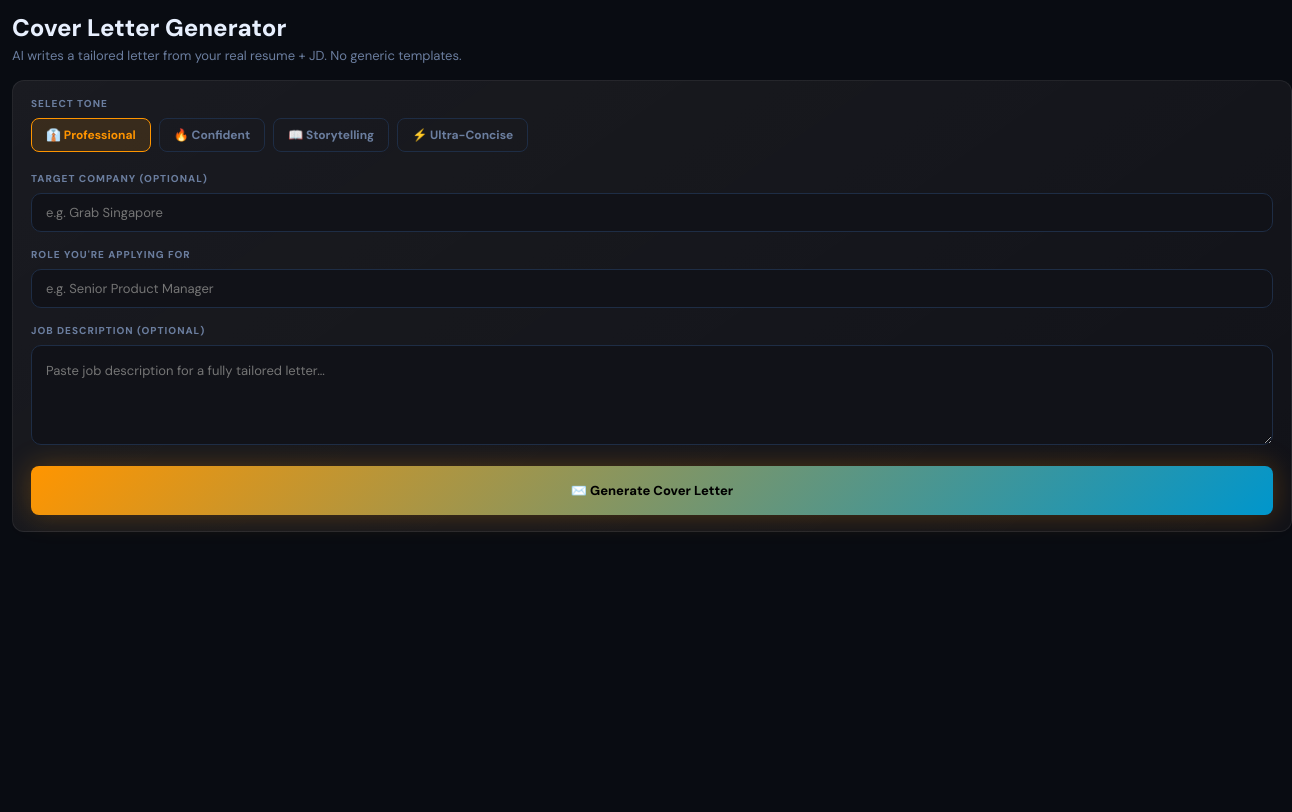
Test case: CoverLetterGen › shows an error and saves nothing when the reply is unusable
Type "PM" into the field named "Role".
click(652, 288); type("PM")  # box [31,269,1273,308]
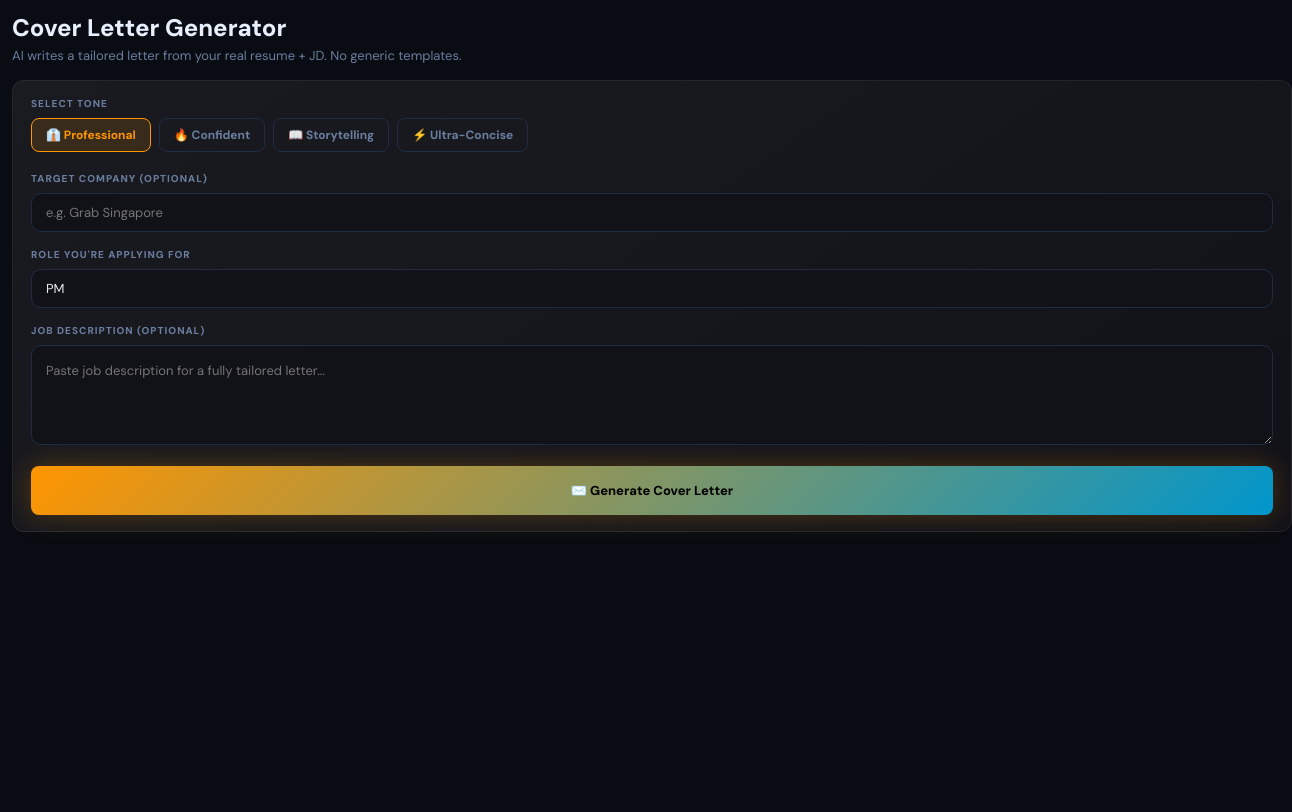
Click the button "✉️ Generate Cover Letter".
click(652, 490)  # box [31,466,1273,515]
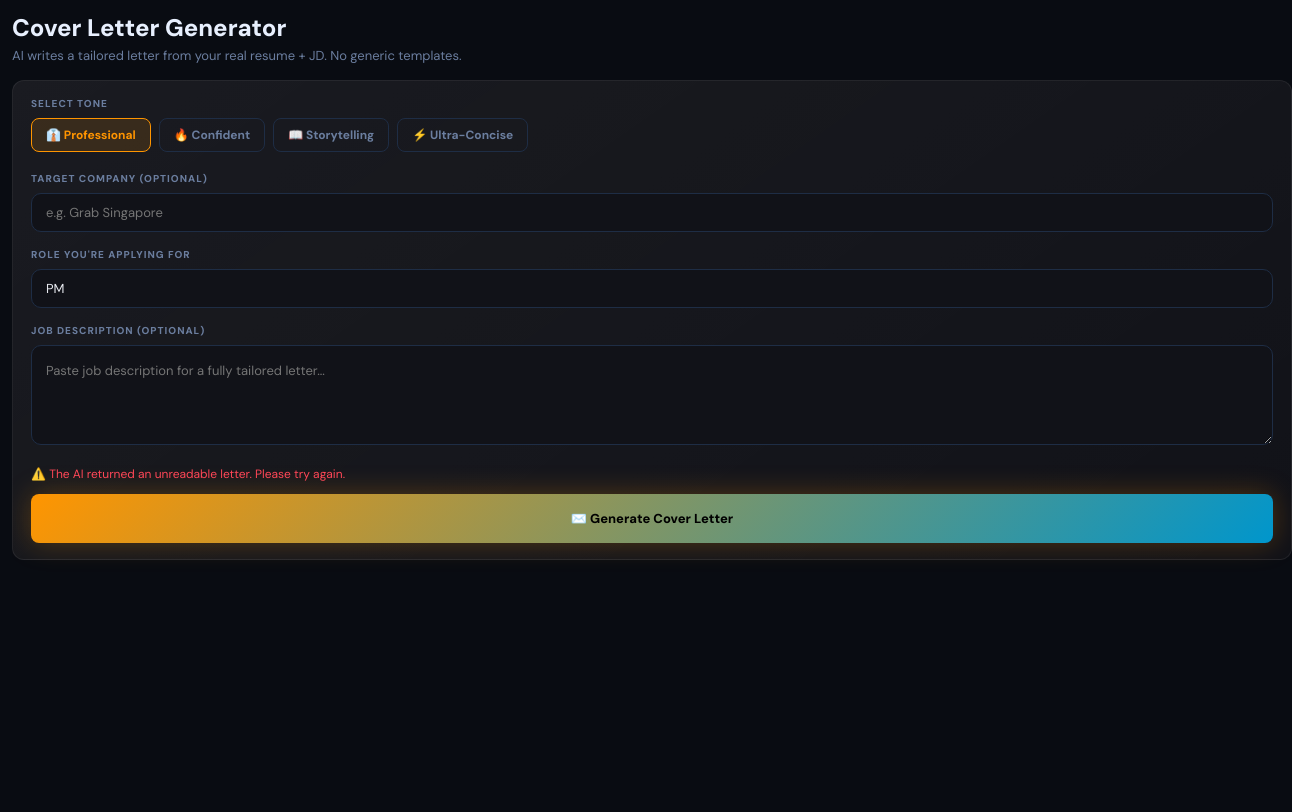
Now the message shows "unreadable letter", box [49,466,345,482]
